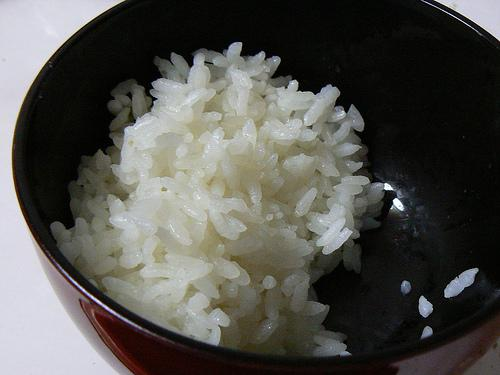rice: (48, 43, 391, 357)
